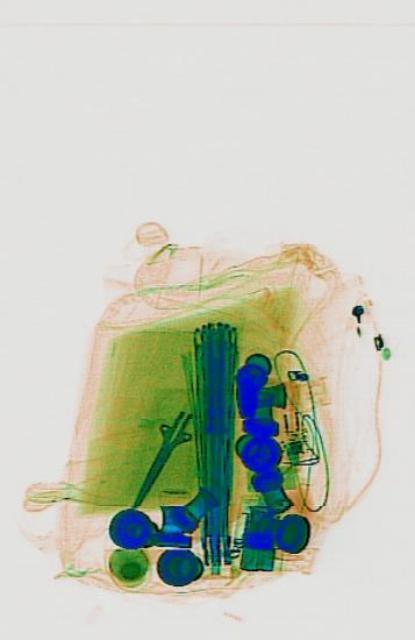Knife: (120, 393, 198, 519)
